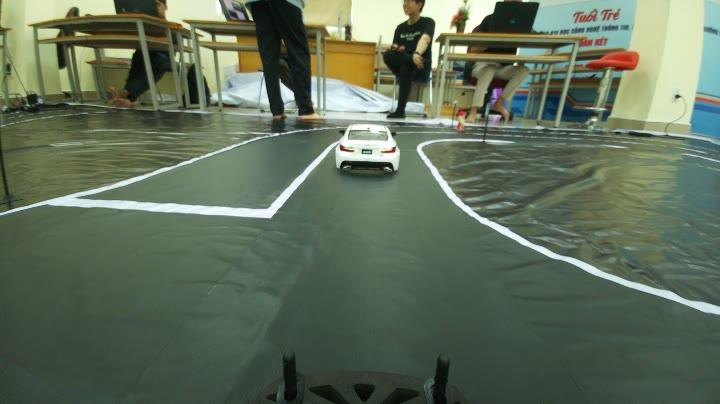car: (332, 117, 410, 180)
